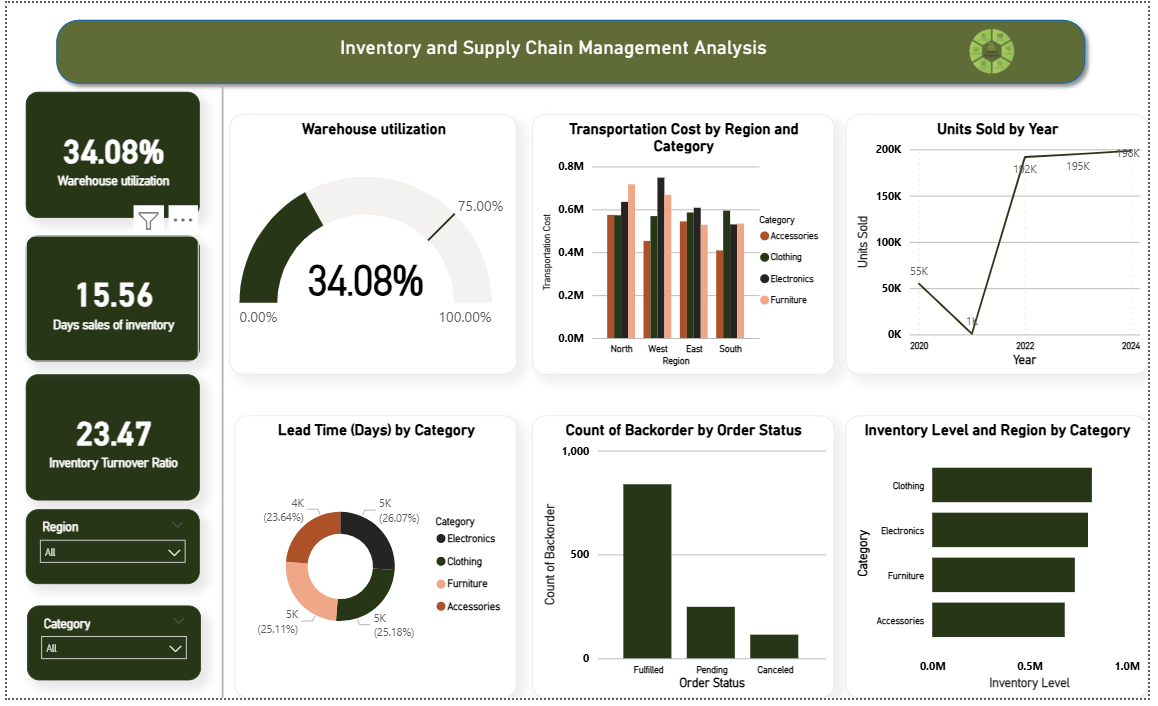

The dashboard page shown, as its layout file describes it:
{"tool":"powerbi","page":{"name":"Page 1","canvas":[1280,780],"ordinal":0},"visuals":[{"type":"shape","box":[46.3,9.8,1172.3,89.7],"z":0},{"type":"textbox","box":[368.8,35.1,495,37.9],"z":1},{"type":"image","box":[1025.1,19.6,159.9,68.7],"z":2},{"type":"shape","box":[235.6,92.6,12.6,687.1],"z":3},{"type":"card","fields":{"Values":["measure.warehouse utilization"]},"box":[21,99.6,194.9,141.6],"z":4},{"type":"card","fields":{"Values":["measure.Inventory Turnover Ratio"]},"box":[21,416.5,194.9,141.6],"z":5},{"type":"card","fields":{"Values":["measure.Days sales of inventory"]},"box":[21,260.8,194.9,141.6],"z":6},{"type":"slicer","fields":{"Values":["Inventory_SupplyChain_Dataset.Region"]},"box":[21,567.9,194.9,84.1],"z":7},{"type":"slicer","fields":{"Values":["Inventory_SupplyChain_Dataset.Category"]},"box":[22.4,675.9,194.9,84.1],"z":8},{"type":"gauge","fields":{"Y":["measure.warehouse utilization"]},"box":[249.6,124.8,322.5,291.7],"z":9},{"type":"clusteredColumnChart","fields":{"Y":["Sum(Inventory_SupplyChain_Dataset.Transportation Cost)"],"Category":["Inventory_SupplyChain_Dataset.Region"],"Series":["Inventory_SupplyChain_Dataset.Category"]},"box":[589,124.8,339.4,291.7],"z":10},{"type":"lineChart","fields":{"Y":["Sum(Inventory_SupplyChain_Dataset.Units Sold)"],"Category":["Inventory_SupplyChain_Dataset.Date.Variation.Date Hierarchy.Year"]},"box":[940.9,124.8,339.4,291.7],"z":11},{"type":"donutChart","fields":{"Category":["Inventory_SupplyChain_Dataset.Category"],"Y":["Sum(Inventory_SupplyChain_Dataset.Lead Time (Days))"]},"box":[255.2,462.8,316.9,316.9],"z":12},{"type":"clusteredColumnChart","fields":{"Category":["Inventory_SupplyChain_Dataset.Order Status"],"Y":["CountNonNull(Inventory_SupplyChain_Dataset.Backorder)"]},"box":[589,463,339,317],"z":13},{"type":"clusteredBarChart","fields":{"Y":["Sum(Inventory_SupplyChain_Dataset.Inventory Level)"],"Category":["Inventory_SupplyChain_Dataset.Category"]},"box":[941,463,339,317],"z":14}]}

Visuals, with their boxes in screenshot pixels (x1, y1, x2, y2), scaled from the page's 1280x780 canvas onto the 1158x706 screenshot:
shape: box(42, 9, 1102, 90)
textbox: box(334, 32, 781, 66)
image: box(927, 18, 1072, 80)
shape: box(213, 84, 225, 705)
card - measure.warehouse utilization: box(19, 90, 195, 218)
card - measure.Inventory Turnover Ratio: box(19, 377, 195, 505)
card - measure.Days sales of inventory: box(19, 236, 195, 364)
slicer - Inventory_SupplyChain_Dataset.Region: box(19, 514, 195, 590)
slicer - Inventory_SupplyChain_Dataset.Category: box(20, 612, 197, 688)
gauge - measure.warehouse utilization: box(226, 113, 518, 377)
clusteredColumnChart - Sum(Inventory_SupplyChain_Dataset.Transportation Cost) x Inventory_SupplyChain_Dataset.Region: box(533, 113, 840, 377)
lineChart - Sum(Inventory_SupplyChain_Dataset.Units Sold) x Inventory_SupplyChain_Dataset.Date.Variation.Date Hierarchy.Year: box(851, 113, 1157, 377)
donutChart - Inventory_SupplyChain_Dataset.Category x Sum(Inventory_SupplyChain_Dataset.Lead Time (Days)): box(231, 419, 518, 705)
clusteredColumnChart - Inventory_SupplyChain_Dataset.Order Status x CountNonNull(Inventory_SupplyChain_Dataset.Backorder): box(533, 419, 840, 705)
clusteredBarChart - Sum(Inventory_SupplyChain_Dataset.Inventory Level) x Inventory_SupplyChain_Dataset.Category: box(851, 419, 1157, 705)
